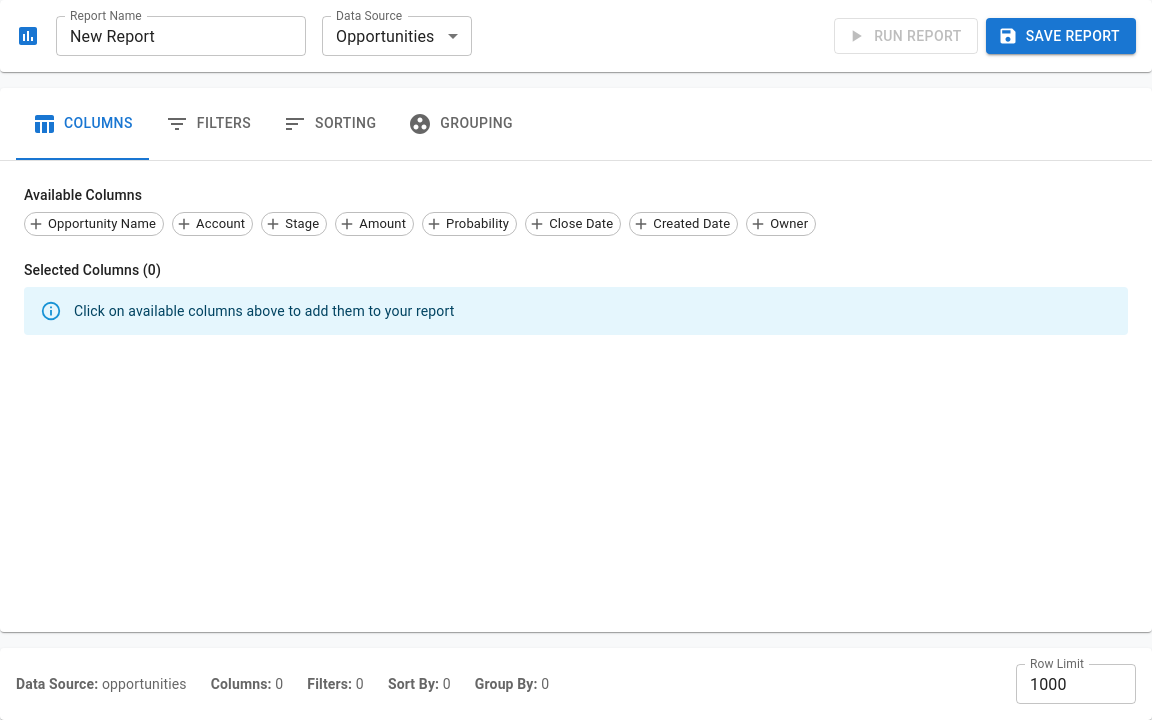
Test: ReportDesigner › shows an error when report name is empty
Clear the field labelled "Report Name" at (181, 36), box [56,16,306,56]
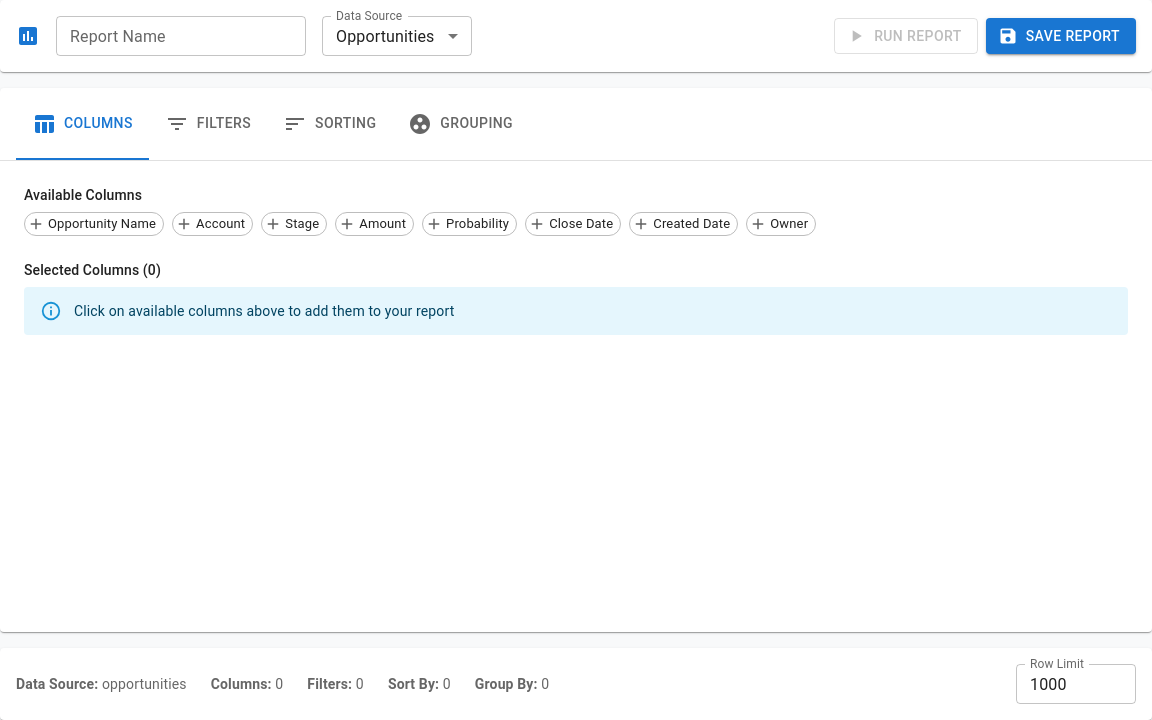
Click the button "Save Report" at (1061, 36), box [986,18,1136,54]
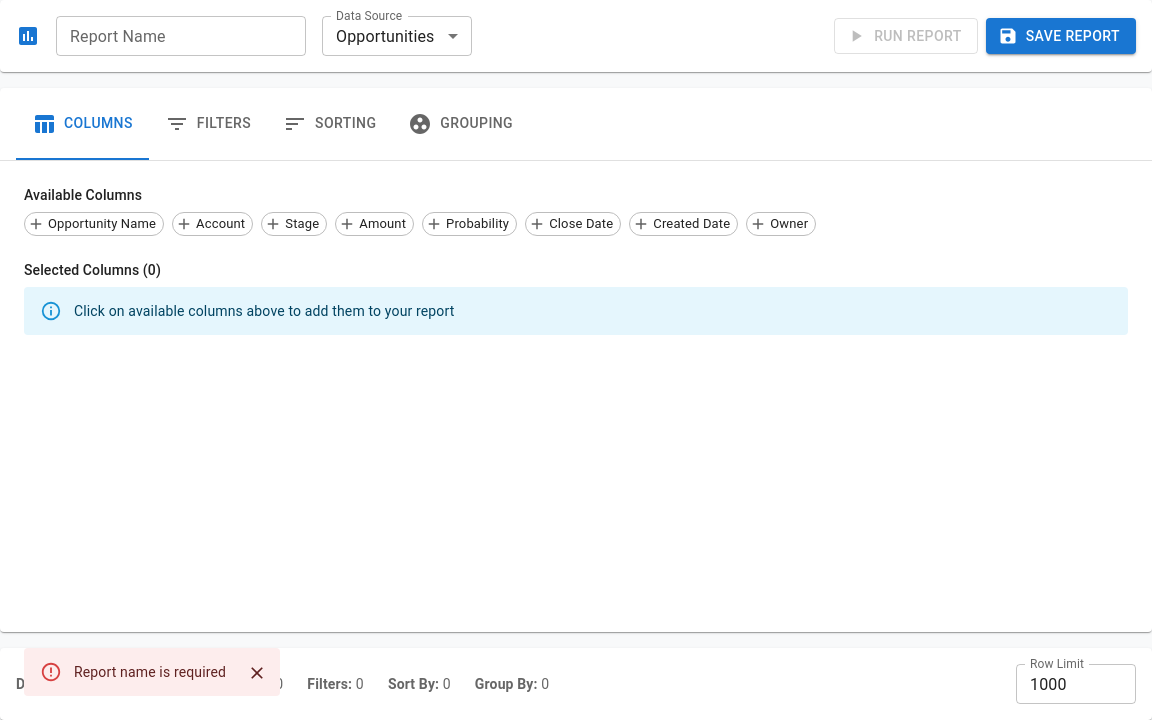
Now the text "Report name is required" is shown, box [74,664,226,680]
